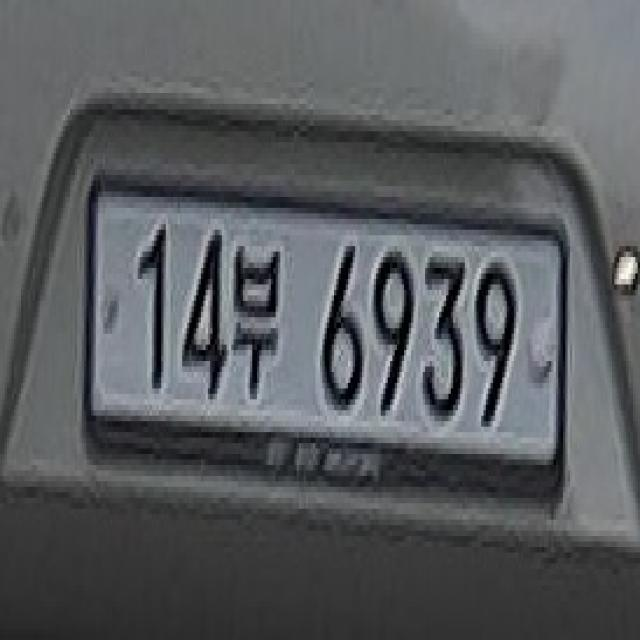1: (135, 192, 173, 410)
3: (416, 230, 469, 443)
4: (178, 213, 231, 416)
6: (315, 235, 369, 416)
9: (469, 241, 528, 448), (369, 235, 416, 432)
bu: (229, 224, 283, 416)
license_plate: (80, 164, 572, 531)
